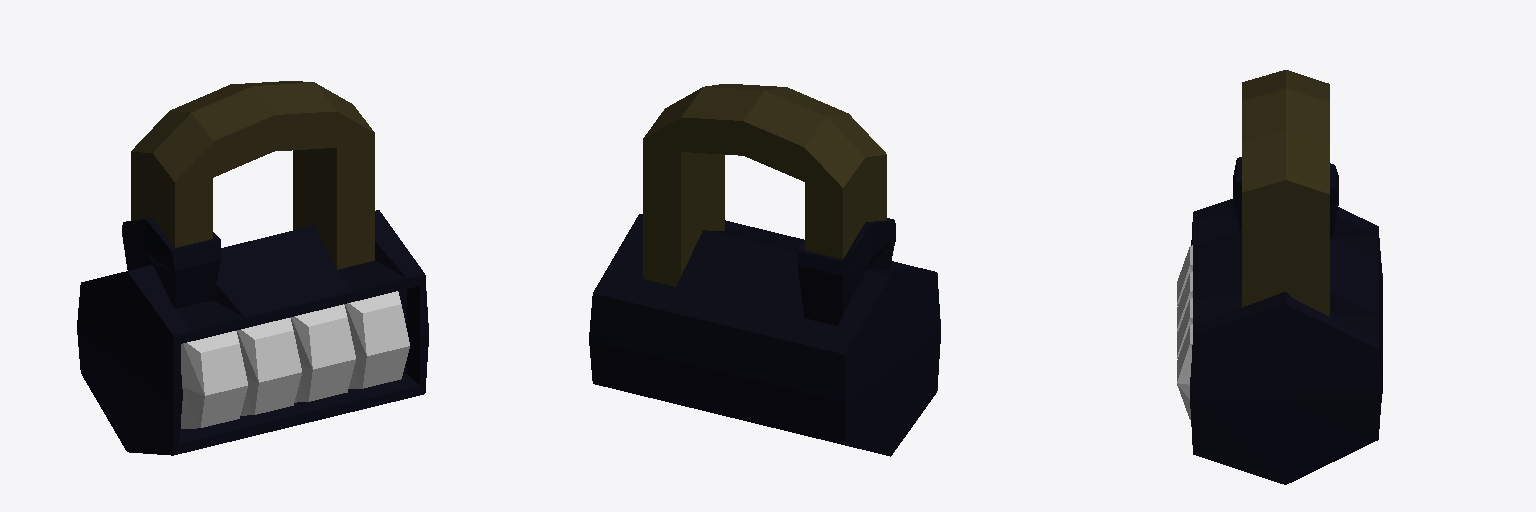
The model's file is ComboLock.obj.
3 views of the same model, side by side, from view 1: azimuth 30°, elevation 25°; view 2: azimuth 150°, elevation 25°; view 3: azimuth 270°, elevation 25° (orthographic).
Parts seen in each view (by area): view 1: ComboLock_Circle.001; view 2: ComboLock_Circle.001; view 3: ComboLock_Circle.001.
Part boxes in pixels (x1,y1,x2,y2): ComboLock_Circle.001: (77,81,428,455); ComboLock_Circle.001: (589,84,940,456); ComboLock_Circle.001: (1177,70,1382,484).
Bounding box in the file's own units: 0.7971 × 0.9902 × 0.5524.